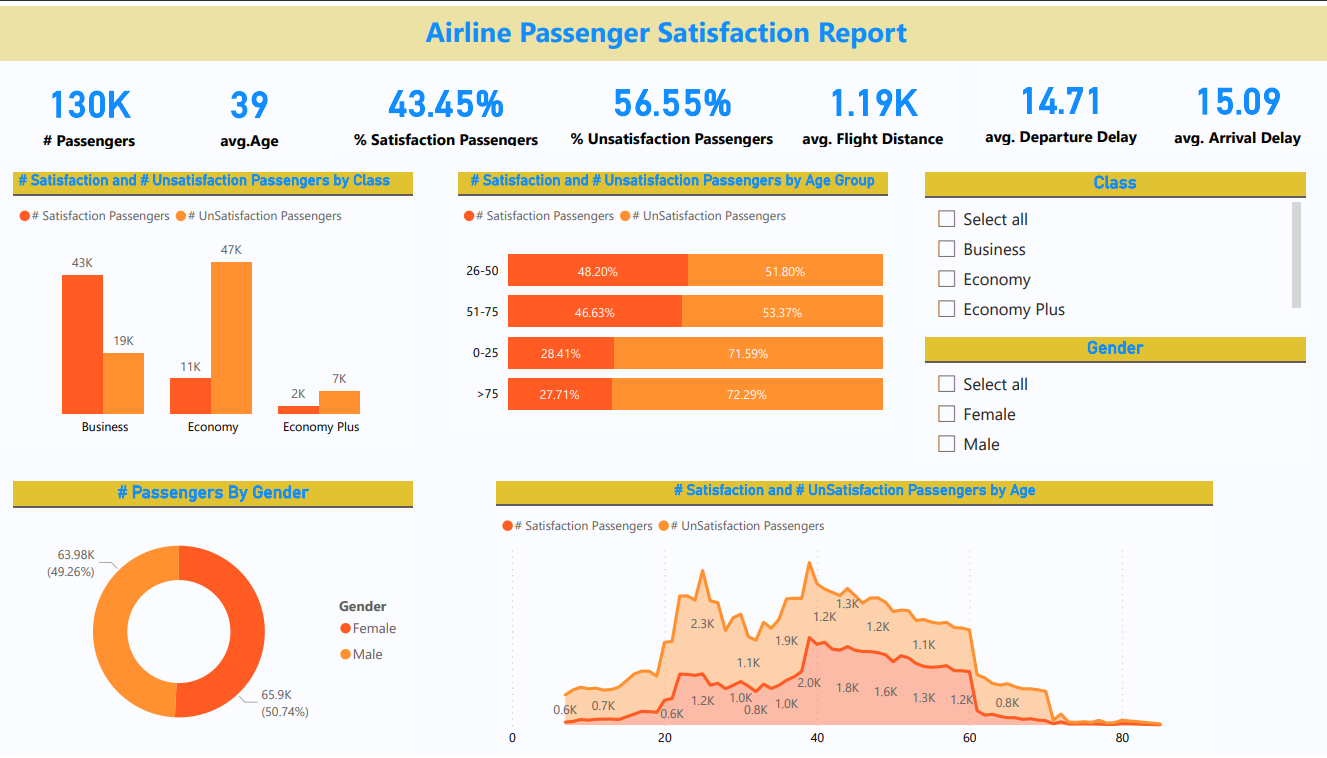

Layout of this report page (visuals, bound fields, positions):
{"tool":"powerbi","page":{"name":"Overview","canvas":[1280,720],"ordinal":0},"visuals":[{"type":"card","fields":{"Values":["_DAX_Measures.# Passengers"]},"box":[13.4,59.9,145.5,81.9],"z":0},{"type":"card","fields":{"Values":["_DAX_Measures.% Sastification Passengers"]},"box":[328.8,61.1,199.3,78.2],"z":1000},{"type":"card","fields":{"Values":["_DAX_Measures.% Unsastification Passengers"]},"box":[537.9,58.7,215.1,80.7],"z":2000},{"type":"card","fields":{"Values":["_DAX_Measures.avg.Age"]},"box":[163.8,61.1,151.6,80.7],"z":3000},{"type":"card","fields":{"Values":["_DAX_Measures.avg. Arrial Delay"]},"box":[1109.9,57.5,158.9,81.9],"z":4000},{"type":"card","fields":{"Values":["_DAX_Measures.avg. Departure Delay"]},"box":[941.3,57.5,157.7,80.7],"z":5000},{"type":"textbox","box":[0,0,1280.3,52.1],"z":6000},{"type":"card","fields":{"Values":["_DAX_Measures.avg. Flight Distance"]},"box":[762.8,58.7,151.6,80.7],"z":7000},{"type":"clusteredColumnChart","title":"# Satisfaction and # Unsatisfaction Passengers by Class","fields":{"Category":["airline_passenger_satisfaction.Class"],"Y":["_DAX_Measures.# Sastification Passengers","_DAX_Measures.# UnSastification Passengers"]},"box":[13.4,158.9,383.8,261.6],"z":8000},{"type":"donutChart","title":"# Passengers By Gender","fields":{"Category":["airline_passenger_satisfaction.Gender"],"Y":["CountNonNull(airline_passenger_satisfaction.Gender)"]},"box":[13.4,457.2,383.8,262.8],"z":9000},{"type":"hundredPercentStackedBarChart","title":"# Satisfaction and # Unsatisfaction Passengers by Age Group","fields":{"Category":["airline_passenger_satisfaction.Age Group"],"Y":["_DAX_Measures.# Sastification Passengers","_DAX_Measures.# UnSastification Passengers"]},"box":[440.1,158.9,413.2,249.4],"z":10000},{"type":"stackedAreaChart","title":"# Satisfaction and # UnSatisfaction Passengers by Age","fields":{"Category":["airline_passenger_satisfaction.Age"],"Y":["_DAX_Measures.# Sastification Passengers","_DAX_Measures.# UnSastification Passengers"]},"box":[476.7,457.2,689.4,262.8],"z":11000},{"type":"slicer","title":"Class","fields":{"Values":["airline_passenger_satisfaction.Class"]},"box":[888.7,158.9,365.5,146.7],"z":12000},{"type":"slicer","title":"Gender","fields":{"Values":["airline_passenger_satisfaction.Gender"]},"box":[888.7,317.8,365.5,122.2],"z":13000}]}

Visuals, with their boxes in screenshot pixels (x1, y1, x2, y2), scaled from the page's 1280x720 canvas onto the 1327x758 screenshot:
card - _DAX_Measures.# Passengers: <box>14,63,165,149</box>
card - _DAX_Measures.% Sastification Passengers: <box>341,64,547,147</box>
card - _DAX_Measures.% Unsastification Passengers: <box>558,62,781,147</box>
card - _DAX_Measures.avg.Age: <box>170,64,327,149</box>
card - _DAX_Measures.avg. Arrial Delay: <box>1151,61,1315,147</box>
card - _DAX_Measures.avg. Departure Delay: <box>976,61,1139,145</box>
textbox: <box>0,0,1326,55</box>
card - _DAX_Measures.avg. Flight Distance: <box>791,62,948,147</box>
"# Satisfaction and # Unsatisfaction Passengers by Class" clusteredColumnChart: <box>14,167,412,443</box>
"# Passengers By Gender" donutChart: <box>14,481,412,757</box>
"# Satisfaction and # Unsatisfaction Passengers by Age Group" hundredPercentStackedBarChart: <box>456,167,885,430</box>
"# Satisfaction and # UnSatisfaction Passengers by Age" stackedAreaChart: <box>494,481,1209,757</box>
"Class" slicer: <box>921,167,1300,322</box>
"Gender" slicer: <box>921,335,1300,463</box>
